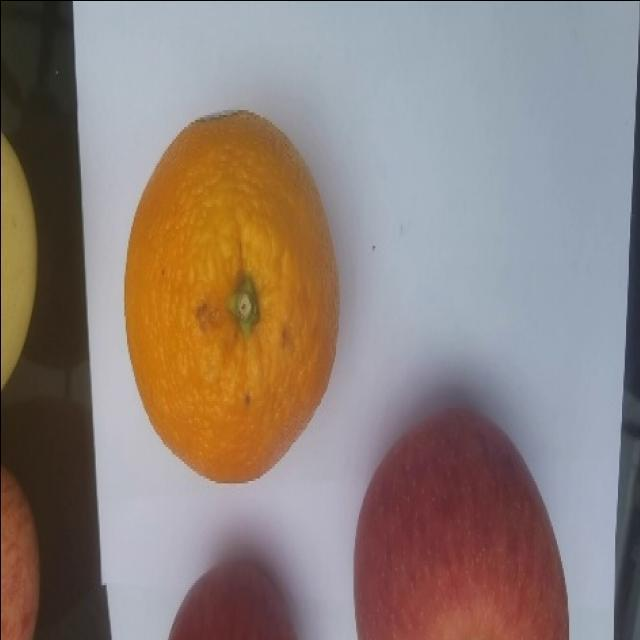Apple: (354, 400, 572, 640), (169, 557, 302, 640), (0, 463, 40, 640)
Orange: (122, 107, 340, 491)
